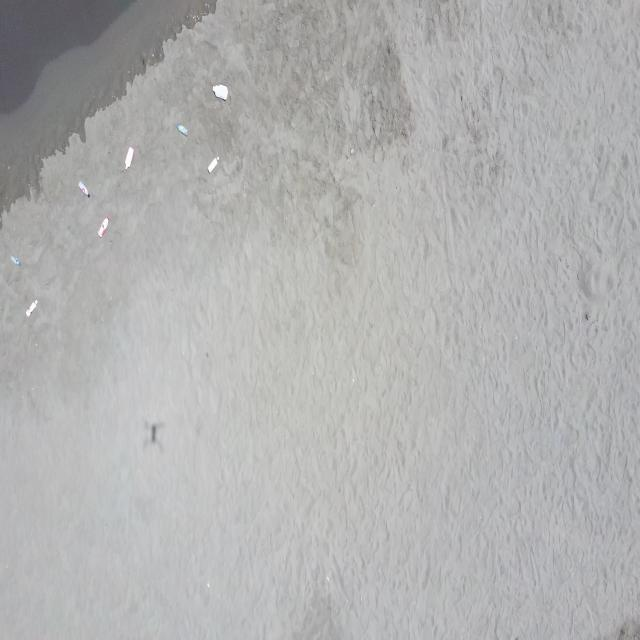Garbage: (212, 83, 227, 100), (98, 216, 107, 236), (207, 156, 218, 172), (77, 180, 88, 196), (124, 147, 132, 168), (27, 300, 36, 316), (176, 123, 187, 135), (11, 255, 20, 264)
